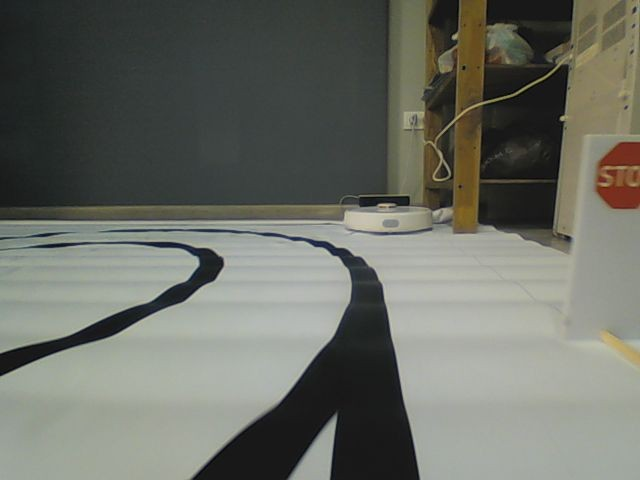Stop: (594, 139, 640, 211)
